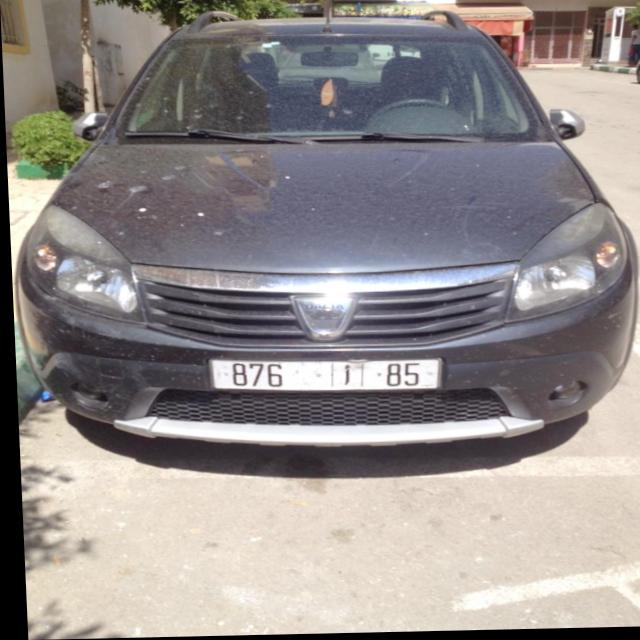License-Plate: (206, 360, 438, 393)
